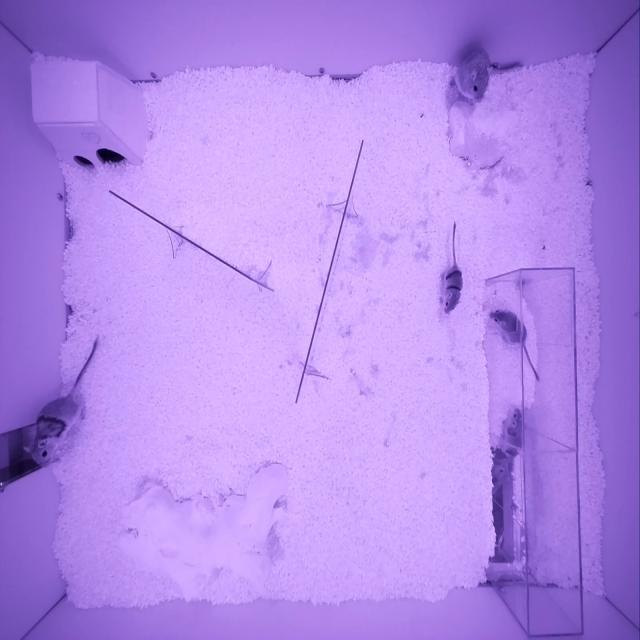adult_back: (454, 48, 493, 105)
adult_front: (23, 396, 87, 468)
pup_fluffy: (489, 308, 527, 347)
pup_h_stripe: (443, 264, 462, 315)
pup_spotted: (500, 407, 527, 461)
pup_v_stripe: (492, 457, 507, 495)
